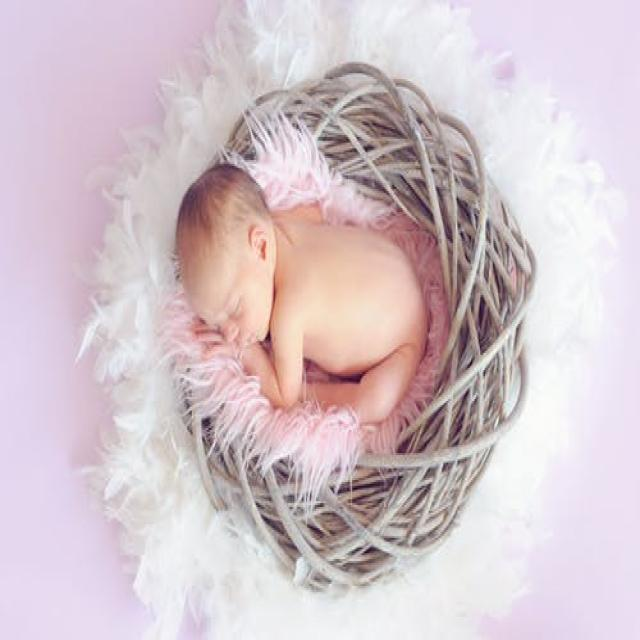non-dog: (171, 165, 429, 454)
